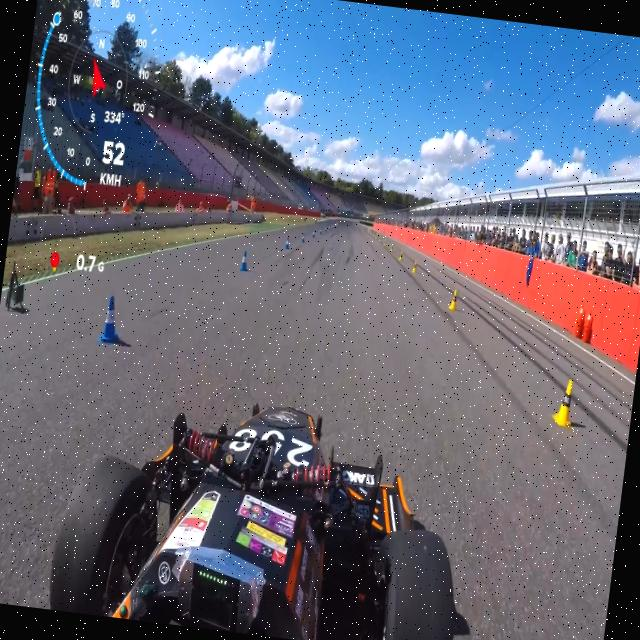blue_cone: (232, 235, 270, 285), (98, 286, 130, 342)
yellow_cone: (540, 374, 580, 431), (446, 282, 468, 312)
